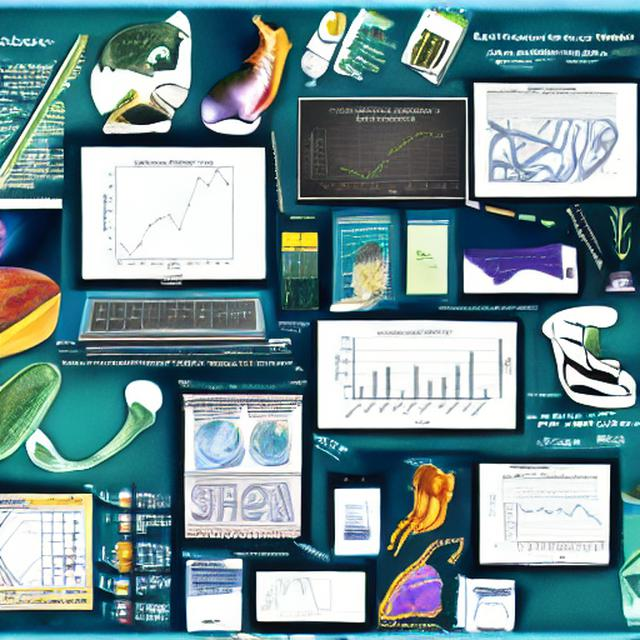Graph: (85, 152, 259, 272), (333, 328, 495, 426), (304, 103, 466, 198), (502, 494, 605, 559), (269, 572, 337, 619)
